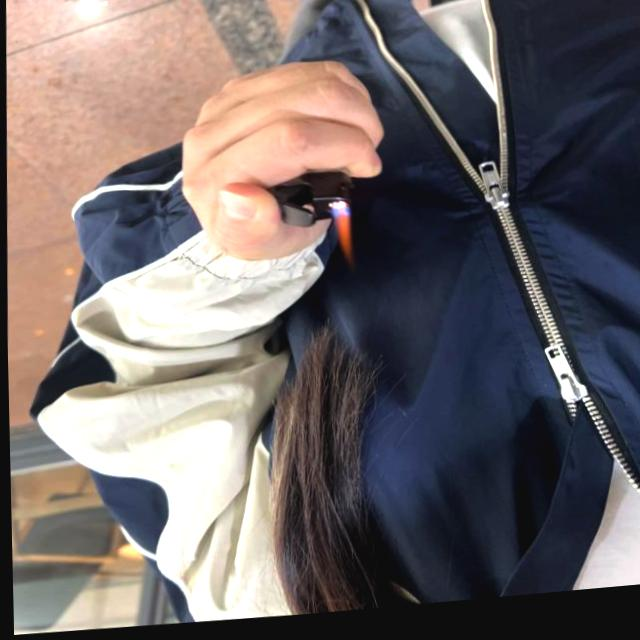Fire: (332, 207, 352, 277)
